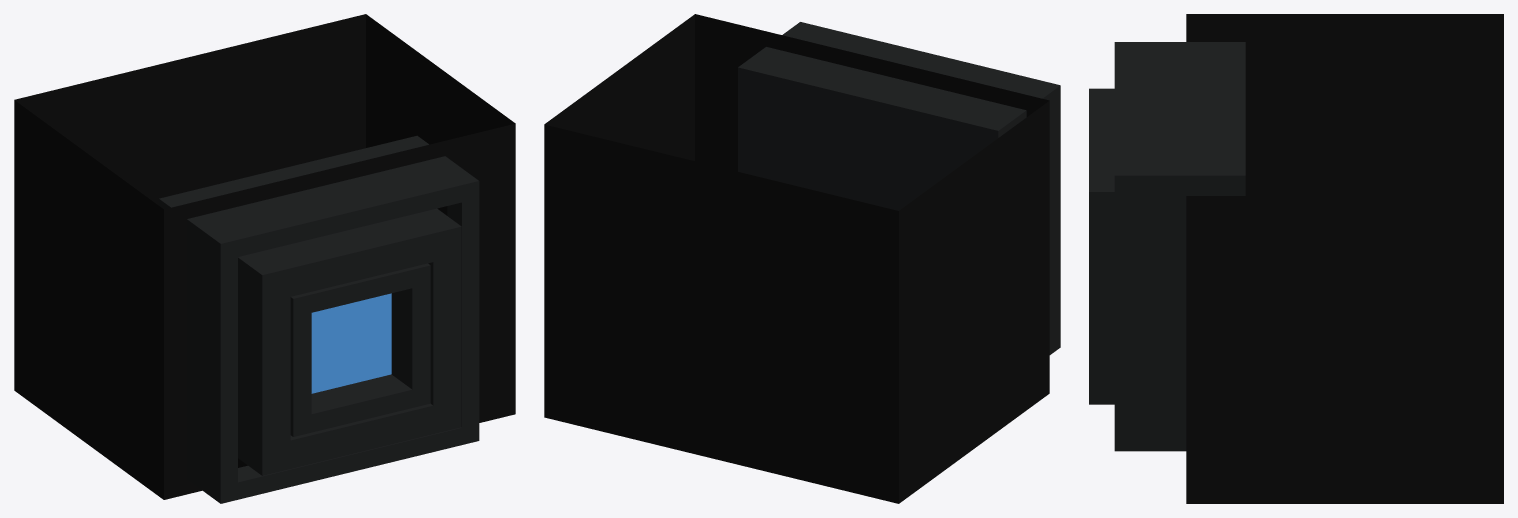
File: Middle_Receptor.fbx
3 renders of one model, left to right at view 1: azimuth 30°, elevation 25°; view 2: azimuth 150°, elevation 25°; view 3: azimuth 270°, elevation 25°, orthographic. The views are drawn at different scales.
Visible parts, largest first — view 1: Middle_Receptor; view 2: Middle_Receptor; view 3: Middle_Receptor.
Part boxes in pixels (x1,y1,x2,y2): Middle_Receptor: (14, 14, 515, 503); Middle_Receptor: (544, 14, 1060, 503); Middle_Receptor: (1089, 14, 1503, 503).
Bounding box in the file's own units: 13.26 × 10.47 × 12.77.
